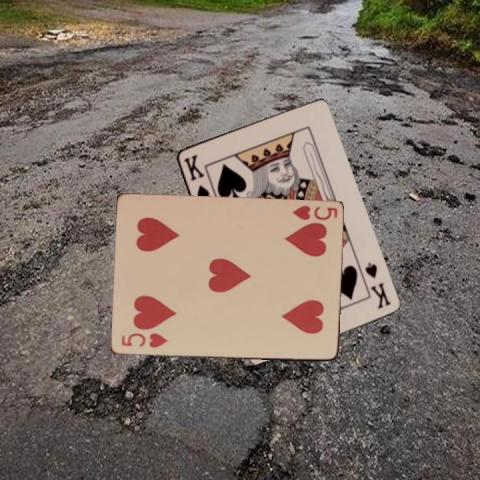5h: (118, 330, 169, 350), (288, 203, 338, 222)
Ks: (362, 258, 392, 310), (180, 151, 210, 202)
